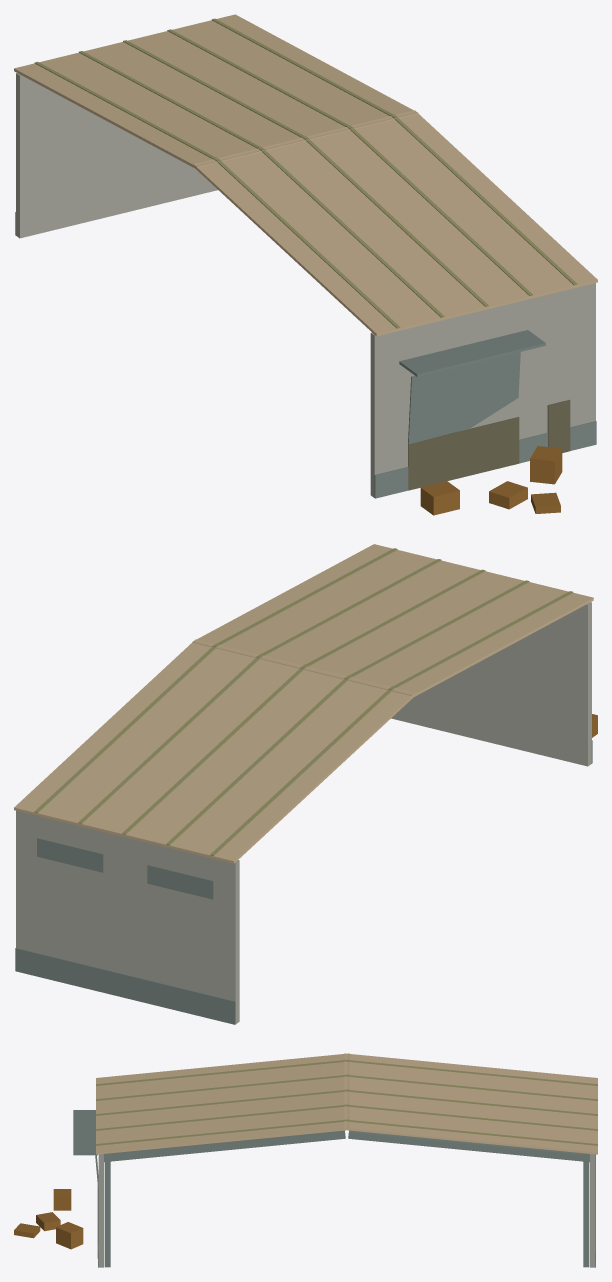
File: SM_NavePoligono_Modulo_e4_Saqueada_LOD0.fbx
The picture shows the model from 3 angles, top to bottom: view 1: azimuth 30°, elevation 25°; view 2: azimuth 150°, elevation 25°; view 3: azimuth 270°, elevation 25°; orthographic projection. The views are drawn at different scales.
Visible parts, largest first — view 1: SM_nave_poligono_v4_LOD0; view 2: SM_nave_poligono_v4_LOD0; view 3: SM_nave_poligono_v4_LOD0.
Boxes of the visible parts, left/top/right/bottom form: SM_nave_poligono_v4_LOD0: left=14, top=14, right=597, bottom=515; SM_nave_poligono_v4_LOD0: left=14, top=544, right=597, bottom=1024; SM_nave_poligono_v4_LOD0: left=14, top=1053, right=597, bottom=1267.
Size of the model in its own units: 9.98 by 8.72 by 32.94.
